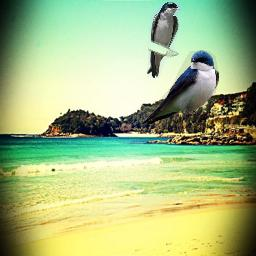Swallow: (141, 50, 219, 125), (147, 2, 180, 78)
